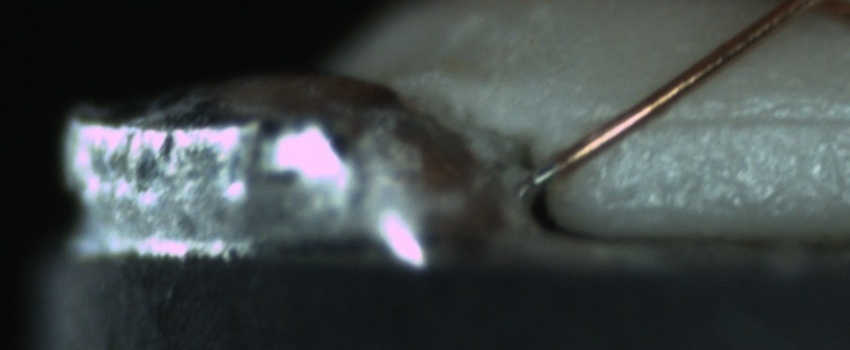CL: (769, 0, 843, 22)
DL: (625, 84, 847, 155)
TS: (532, 158, 559, 187)
TTCW: (534, 144, 584, 186)
